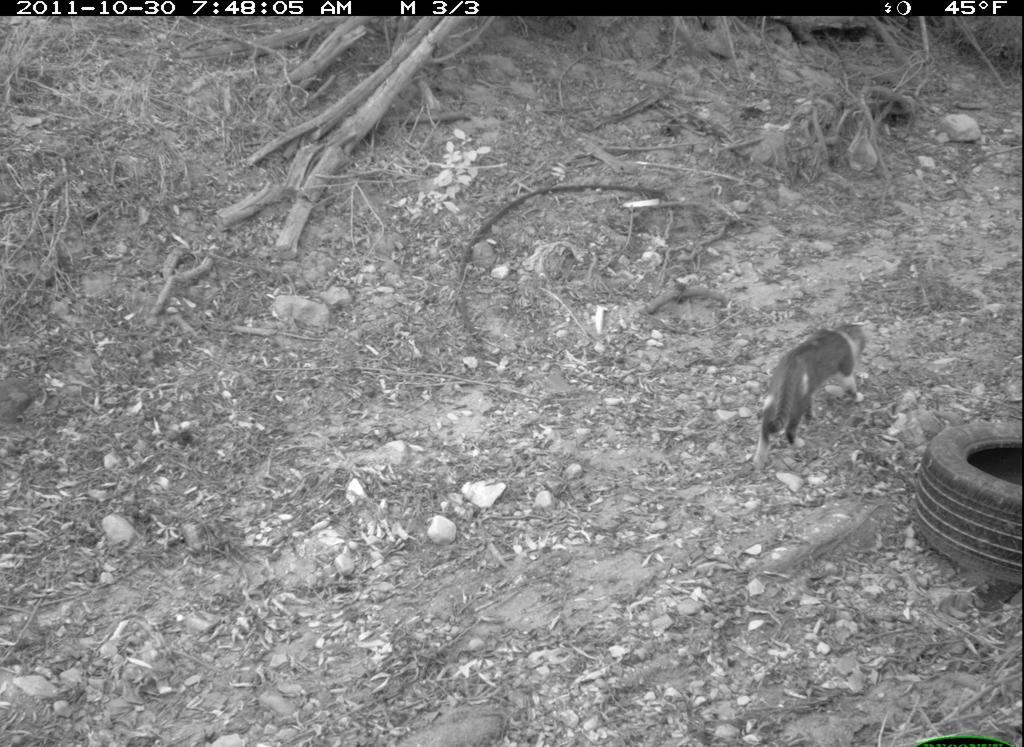cat: (738, 303, 886, 472)
